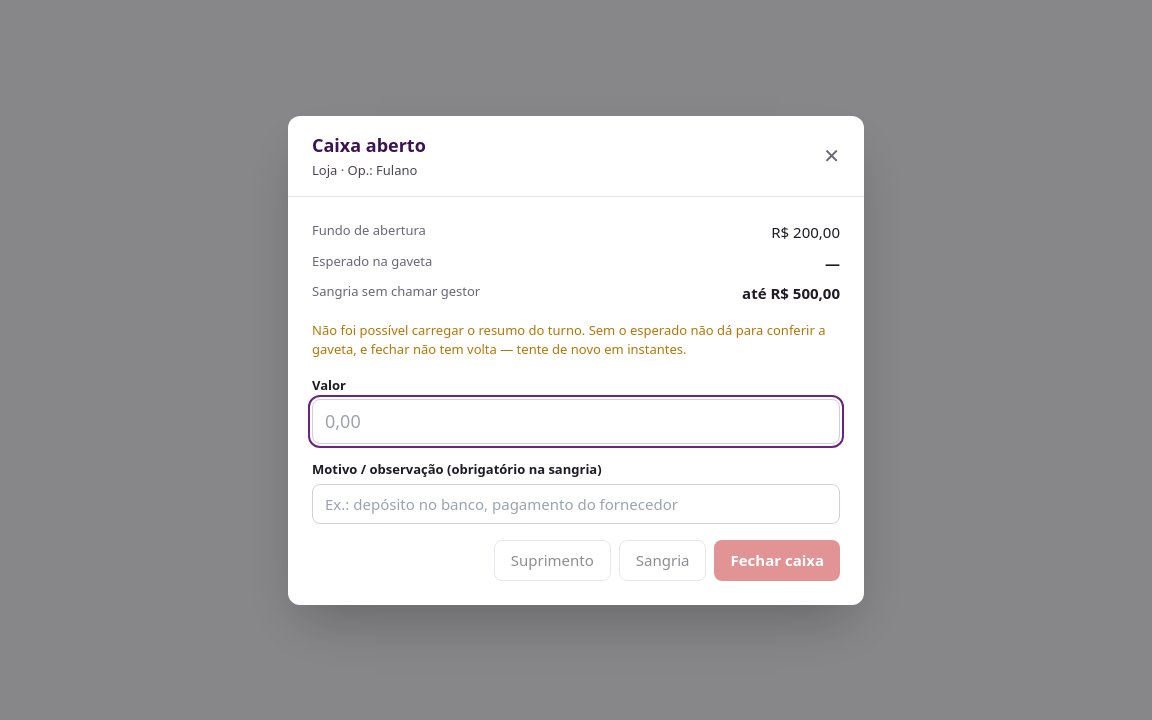
Test case: acima do teto, a liberação é pedida NO MESMO modal › o clique abre o diálogo do gestor, e a sangria NÃO sai antes da senha
Expected: the text "—" is shown, x1=825 y1=252 x2=840 y2=272
Type "800,00" into the field labelled "Valor" at (576, 422), box x1=312 y1=399 x2=840 y2=444
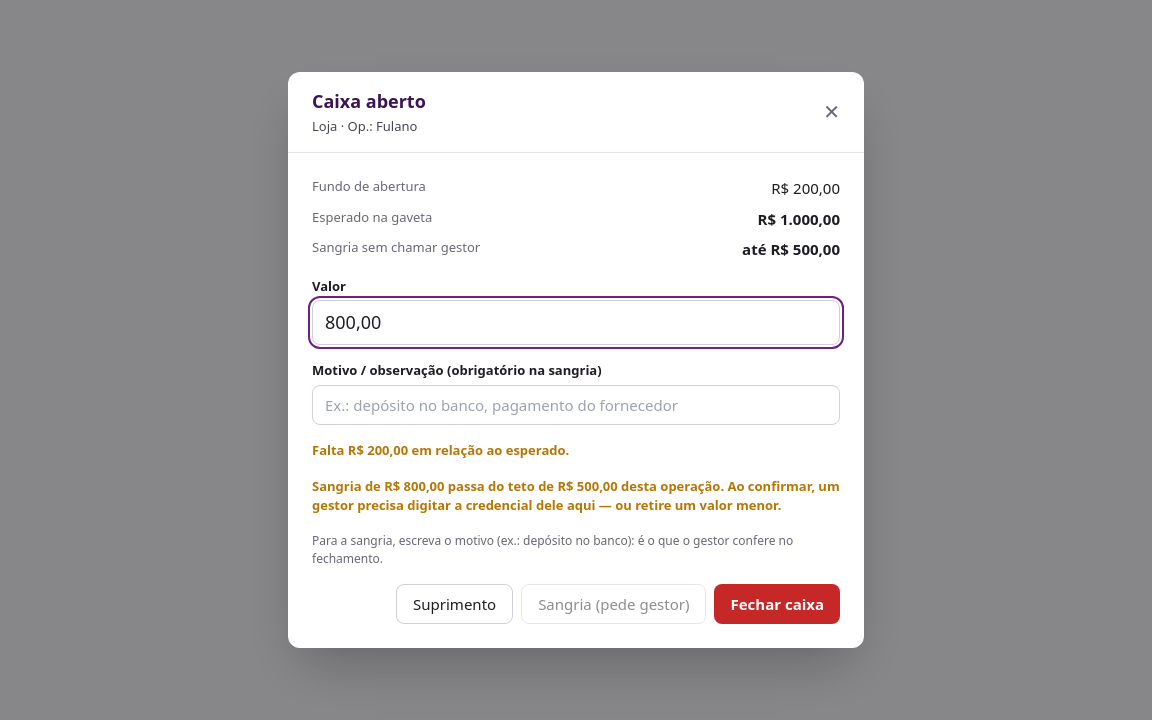
Type "depósito no banco" into the field named "Motivo (obrigatório na sangria)" at (576, 405), box x1=312 y1=385 x2=840 y2=425
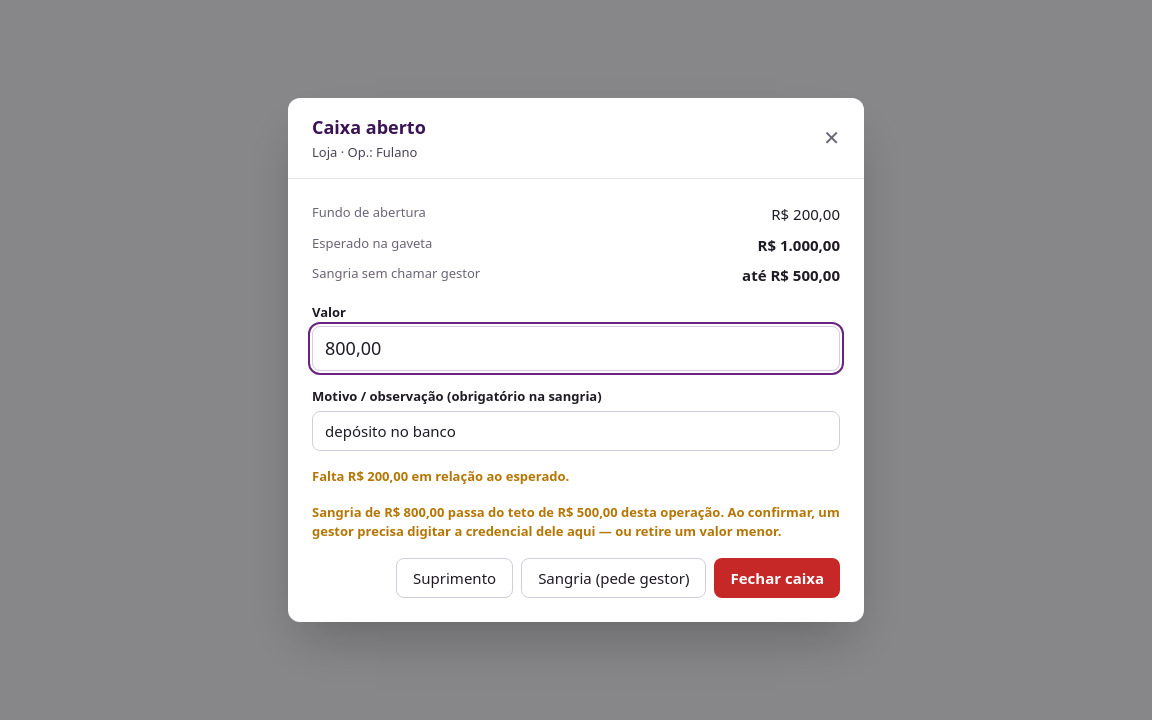
Click the button "Sangria (pede gestor)" at (614, 578), box x1=521 y1=558 x2=706 y2=598
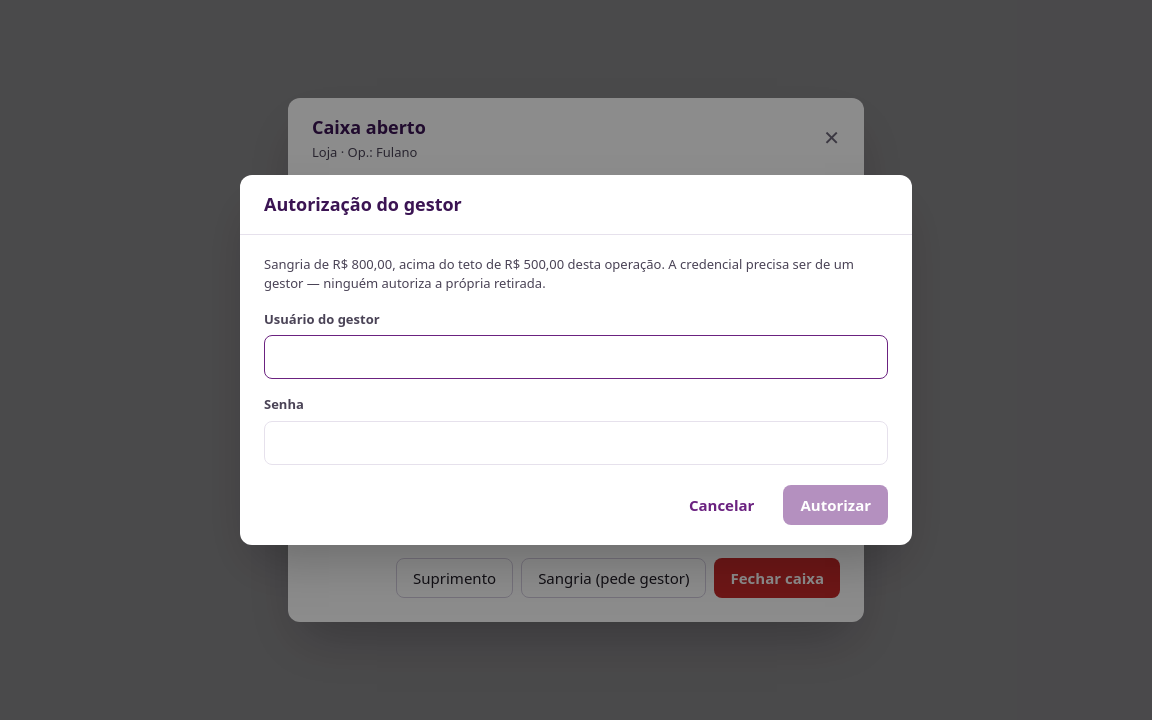
Result: the dialog labelled "Autorização do gestor" shows "Sangria de" at x1=264 y1=255 x2=854 y2=292
Result: the dialog labelled "Autorização do gestor" shows "ninguém autoriza a própria retirada" at x1=264 y1=255 x2=854 y2=292
